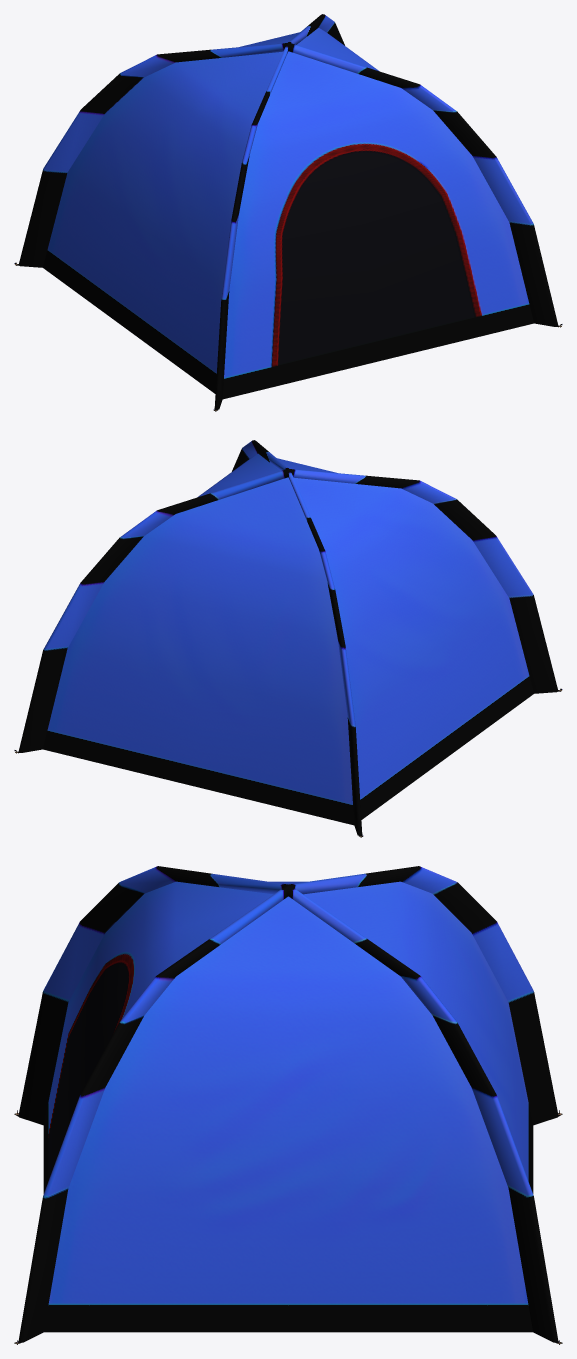
Rendered from tent_02.fbx.
The picture shows the model from 3 angles, top to bottom: view 1: azimuth 30°, elevation 25°; view 2: azimuth 150°, elevation 25°; view 3: azimuth 270°, elevation 25°; orthographic projection. The views are drawn at different scales.
Visible parts, largest first — view 1: Cube.002; view 2: Cube.002; view 3: Cube.002.
Boxes of the visible parts, box(x1,y1,x2,y2) form: Cube.002: box(14, 14, 562, 411); Cube.002: box(14, 440, 562, 837); Cube.002: box(14, 866, 562, 1344).
Size of the model in its own units: 224 by 224 by 155.
1 material, 1 textured.
